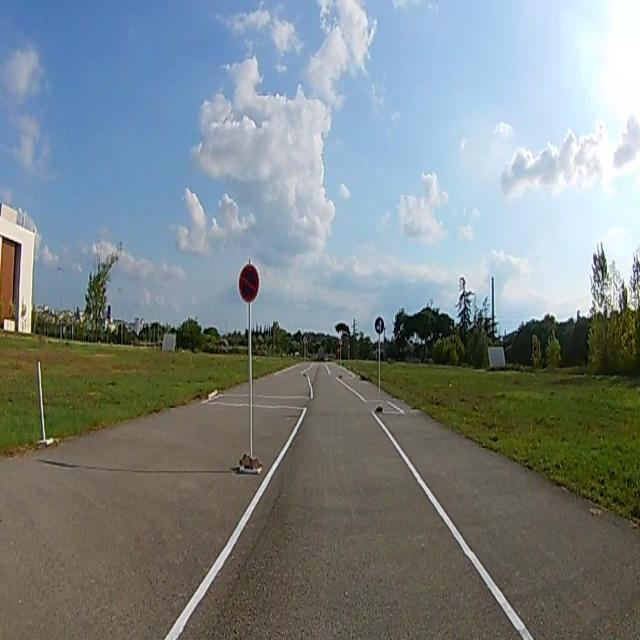parkyasak: (238, 264, 258, 302)
